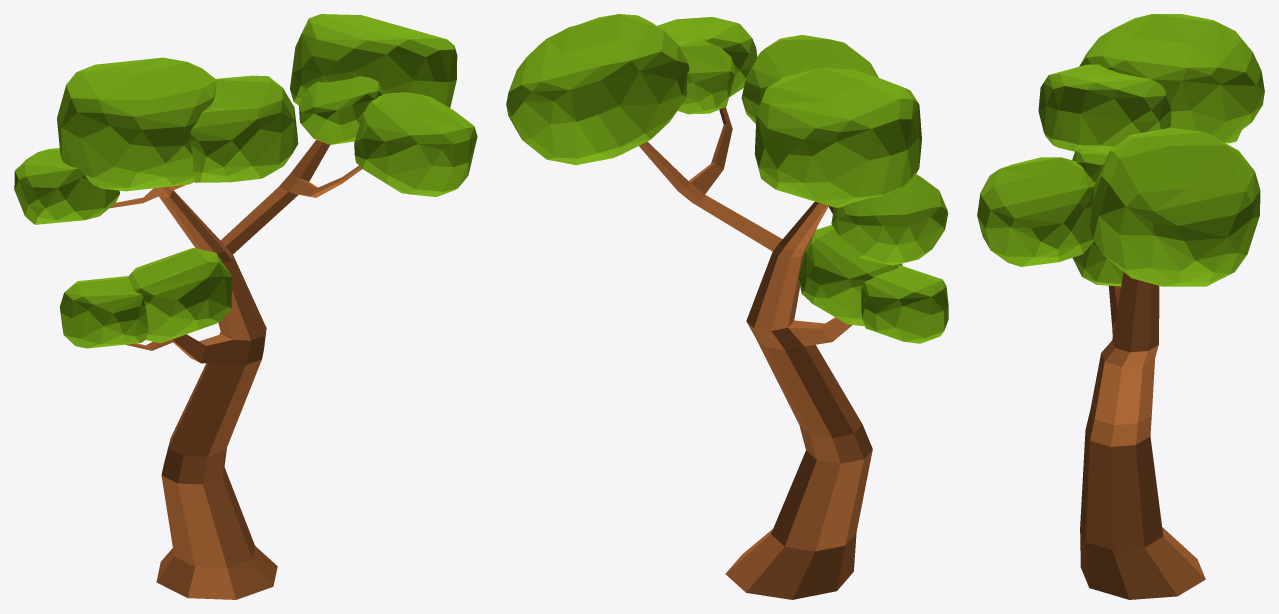
Rendered from ArbolSolo1.obj.
3 views of the same model, side by side, from view 1: azimuth 30°, elevation 25°; view 2: azimuth 150°, elevation 25°; view 3: azimuth 270°, elevation 25° (orthographic).
Visible parts, largest first — view 1: Arbol004, TroncoA004; view 2: Arbol004, TroncoA004; view 3: Arbol004, TroncoA004.
Boxes of the visible parts, <box> form: Arbol004: <box>14,14,477,348</box>; TroncoA004: <box>109,140,361,599</box>; Arbol004: <box>506,14,948,343</box>; TroncoA004: <box>639,107,872,599</box>; Arbol004: <box>977,14,1264,286</box>; TroncoA004: <box>1080,272,1205,599</box>.
Bounding box in the file's own units: 22.74 × 25.95 × 13.36.
